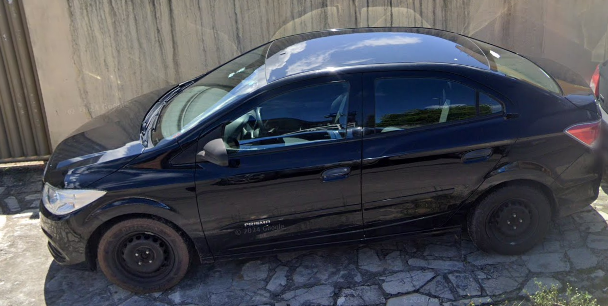car: (40, 26, 600, 286)
